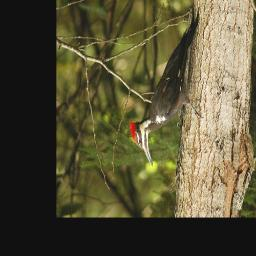Woodpecker: (128, 6, 206, 167)
